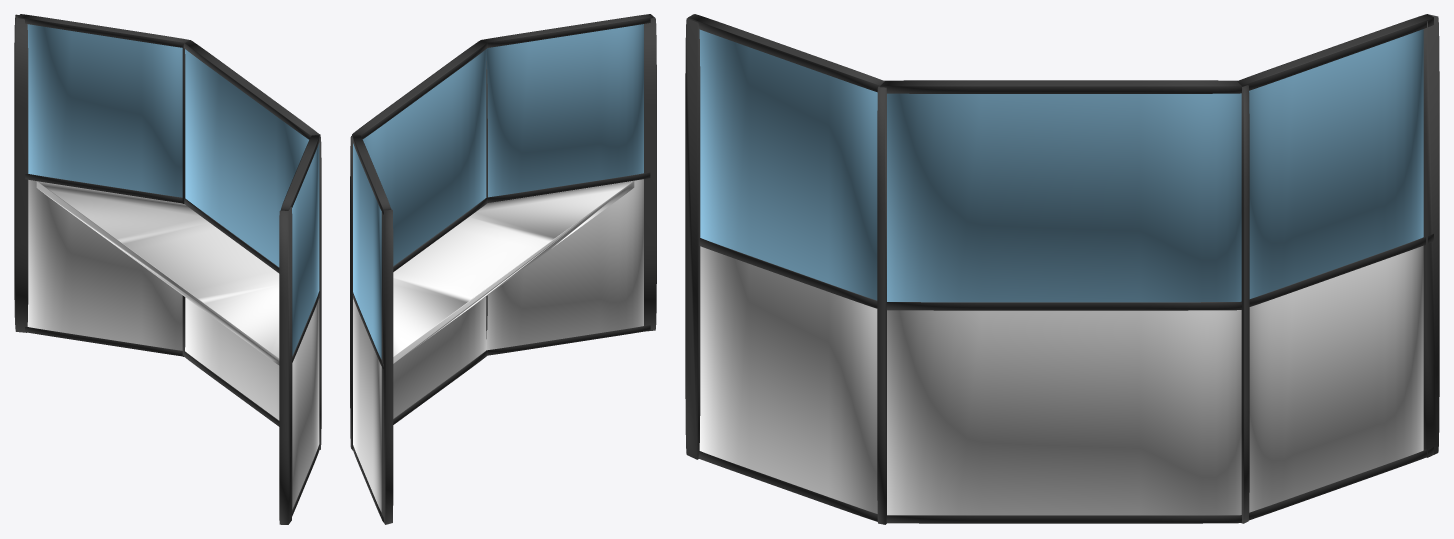
The model's file is shielding.obj.
The picture shows the model from 3 angles, left to right: view 1: azimuth 30°, elevation 25°; view 2: azimuth 150°, elevation 25°; view 3: azimuth 270°, elevation 25°; orthographic projection. The views are drawn at different scales.
Visible parts, largest first — view 1: Box033, Box050, Box030, Box034, Box028, Box049, Box048, Box035, Box029, Box043, Box042, Box039 (+6 smaller); view 2: Box035, Box050, Box029, Box034, Box028, Box033, Box030, Box049, Box048, Box043, Box044, Box038 (+5 smaller); view 3: Box034, Box028, Box035, Box029, Box033, Box030, Box049, Box048, Box043, Box040, Box041, Box046 (+7 smaller).
Boxes of the visible parts, box(x1,y1,x2,y2) form: Box033: box(27, 24, 182, 197); Box050: box(36, 181, 279, 365); Box030: box(27, 180, 182, 350); Box034: box(185, 49, 308, 266); Box028: box(185, 297, 279, 420); Box049: box(14, 14, 28, 332); Box048: box(279, 207, 292, 524); Box035: box(292, 143, 319, 355); Box029: box(292, 298, 319, 508); Box043: box(184, 40, 320, 139); Box042: box(18, 14, 189, 47); Box039: box(25, 174, 182, 203); Box035: box(486, 24, 643, 197); Box050: box(393, 181, 634, 363); Box029: box(486, 179, 643, 350); Box034: box(362, 49, 486, 265); Box028: box(393, 297, 486, 418); Box033: box(353, 143, 381, 359); Box030: box(353, 298, 381, 511); Box049: box(381, 208, 393, 524); Box048: box(644, 15, 656, 331); Box043: box(352, 40, 487, 139); Box044: box(482, 14, 653, 47); Box038: box(487, 172, 650, 202); Box034: box(887, 93, 1241, 302); Box028: box(887, 310, 1241, 515); Box035: box(699, 29, 877, 300); Box029: box(699, 246, 877, 513); Box033: box(1249, 29, 1423, 298); Box030: box(1249, 245, 1423, 512); Box049: box(1423, 14, 1439, 457); Box048: box(685, 14, 700, 459); Box043: box(880, 80, 1241, 93); Box040: box(877, 86, 886, 524); Box041: box(1241, 85, 1249, 523); Box046: box(886, 515, 1241, 523).
Bounding box in the file's own units: 17.39 × 46.92 × 73.24.
